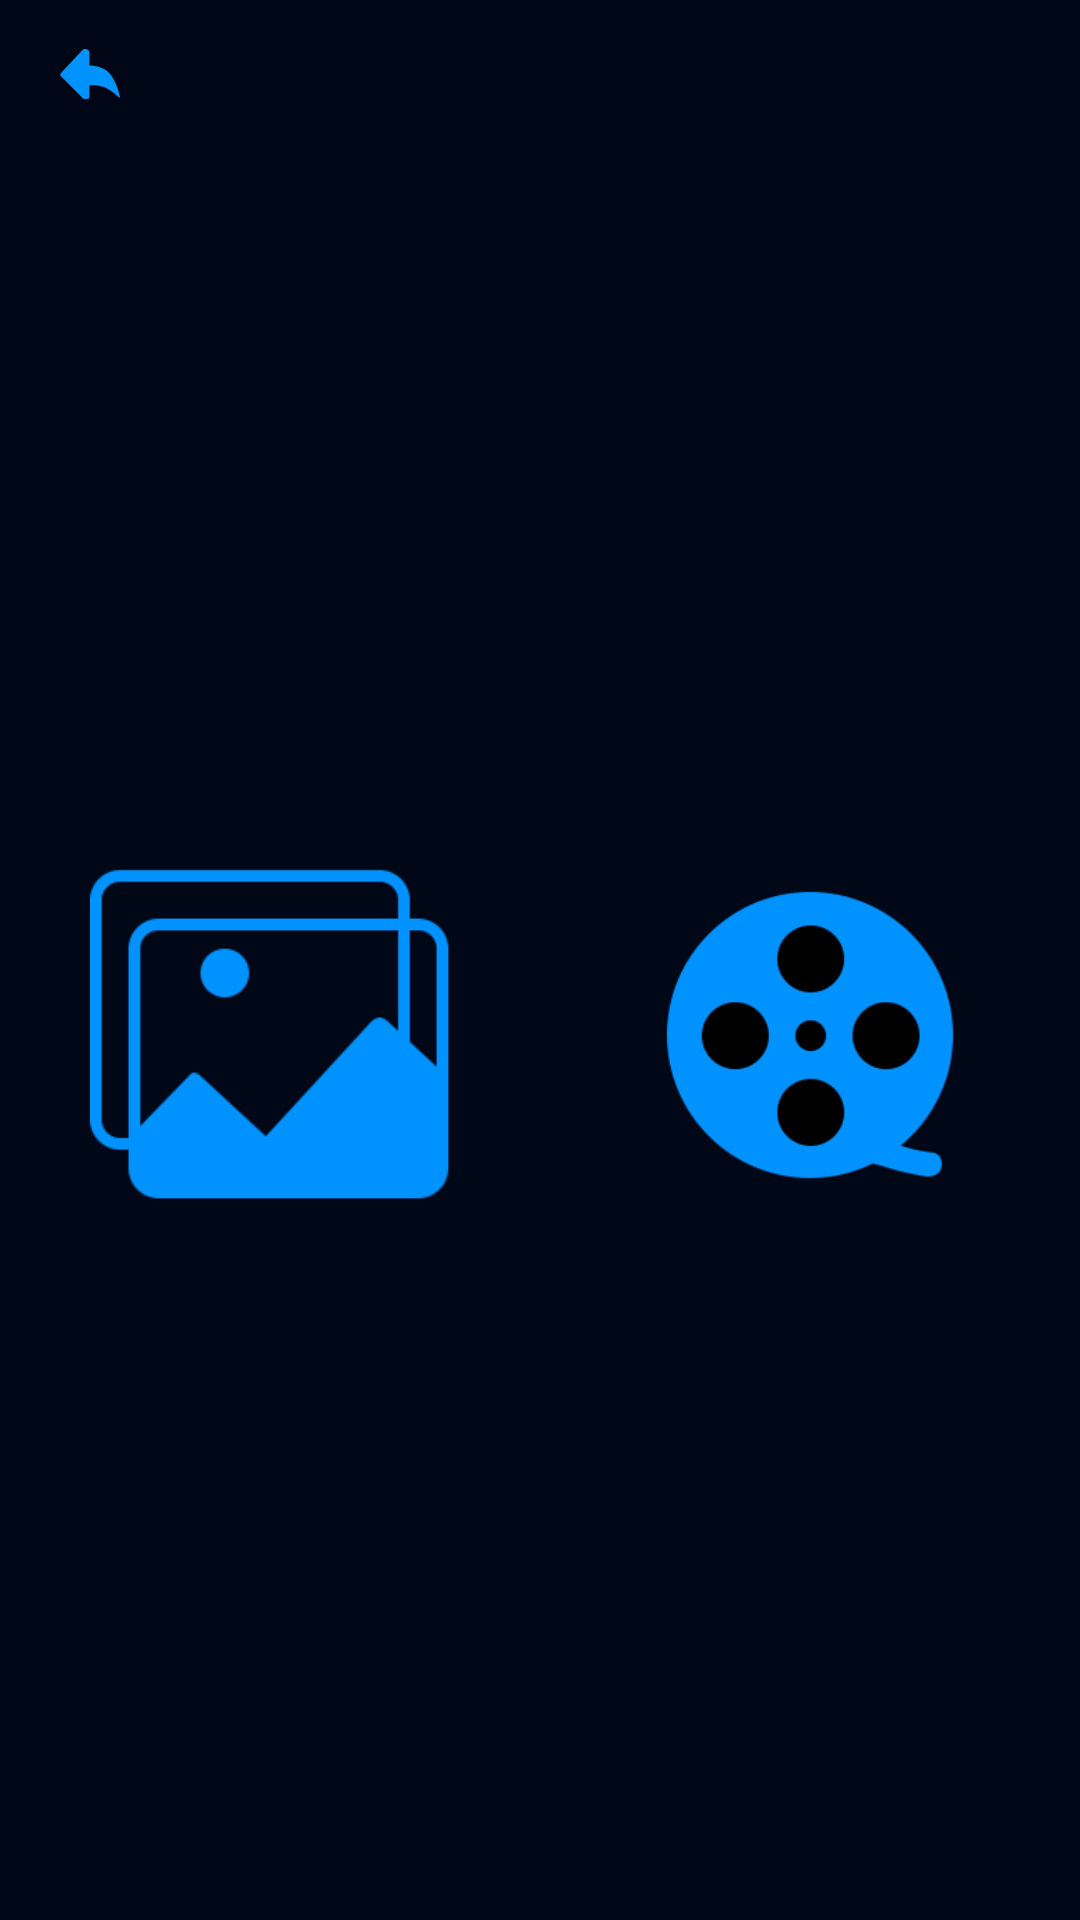

Icons on this 1080w x 1920h Android screen, each with the point to tap as [x,y]:
pictures: [269,1034]
videos: [810,1035]
